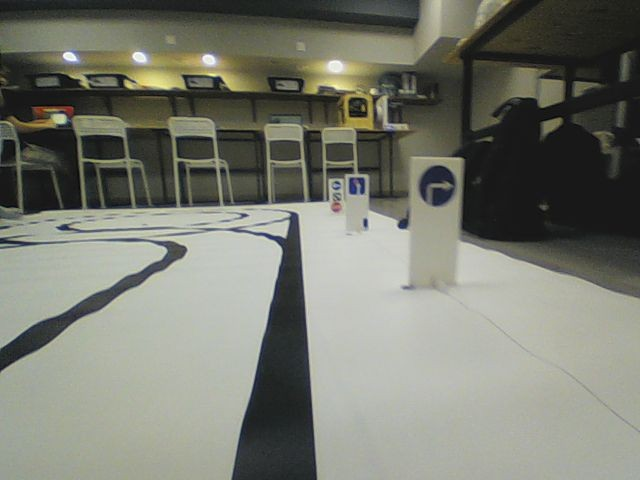Right: (417, 163, 456, 207)
priority_movement: (348, 177, 365, 196)
